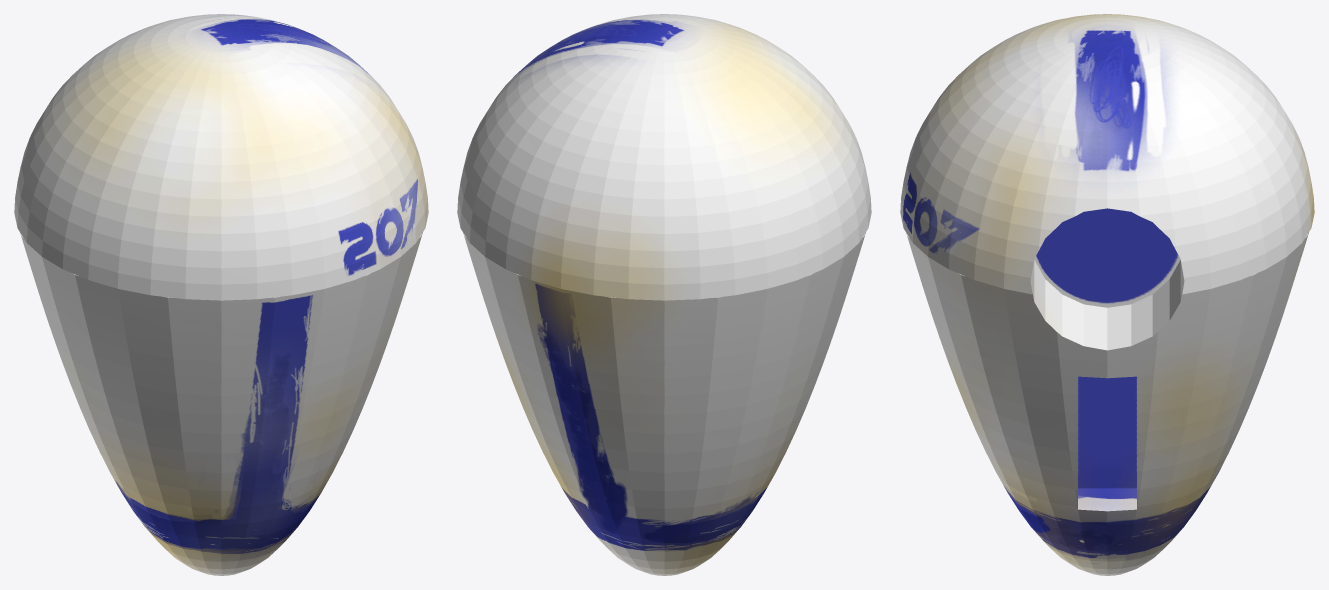
Rendered from Alice.fbx.
The picture shows the model from 3 angles, left to right: view 1: azimuth 30°, elevation 25°; view 2: azimuth 150°, elevation 25°; view 3: azimuth 270°, elevation 25°; orthographic projection.
Visible parts, largest first — view 1: node_id5; view 2: node_id5; view 3: node_id5.
Boxes of the visible parts, left/top/right/bottom form: node_id5: left=14, top=14, right=428, bottom=575; node_id5: left=457, top=14, right=871, bottom=575; node_id5: left=900, top=14, right=1314, bottom=575.
Size of the model in its own units: 0.346 by 0.512 by 0.3584.
Materials: 1 (1 with a texture image).
